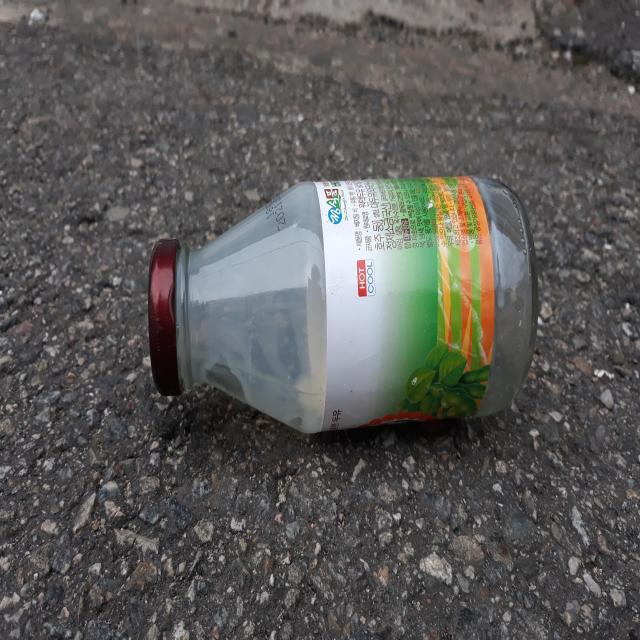glass: (149, 175, 538, 432)
